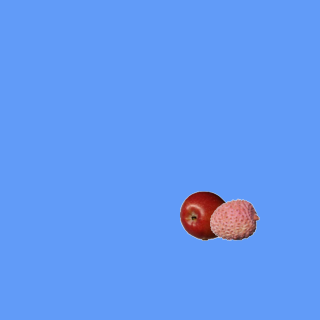Apple Braeburn: (179, 190, 229, 240)
Lychee: (209, 194, 259, 244)
